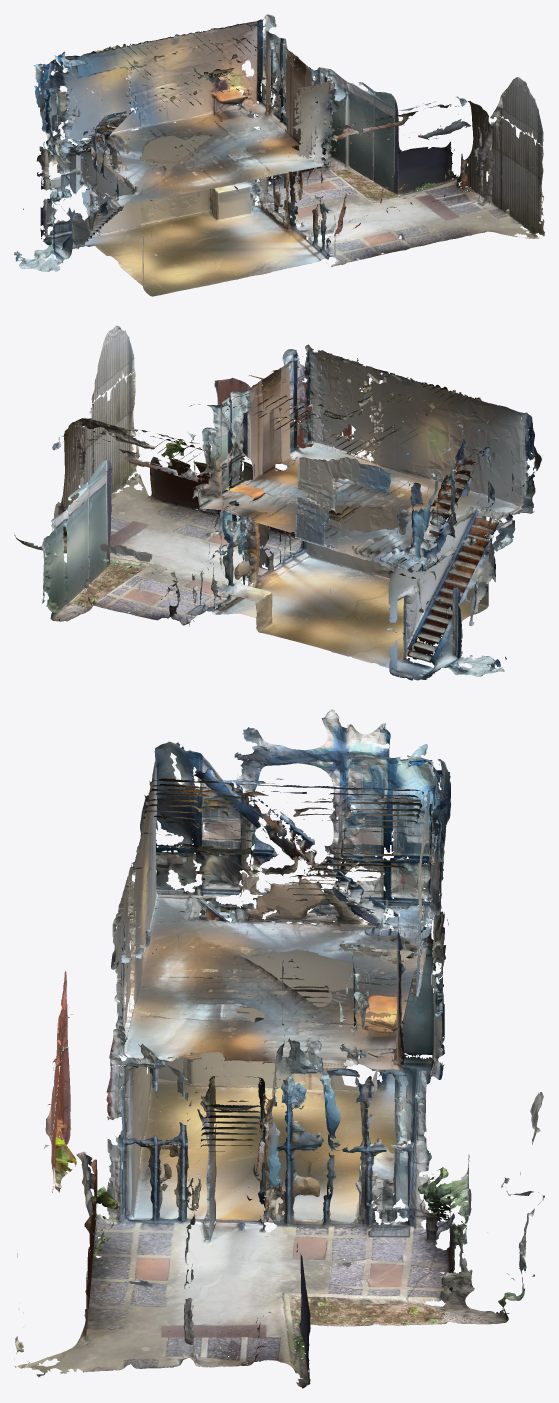
Rendered from scan.glb.
3 renders of one model, top to bottom at view 1: azimuth 30°, elevation 25°; view 2: azimuth 150°, elevation 25°; view 3: azimuth 270°, elevation 25°, orthographic. The views are drawn at different scales.
Parts seen in each view (by area): view 1: GLTF_1, GLTF_7, GLTF, GLTF_2, GLTF_6, GLTF_4, GLTF_3, GLTF_5; view 2: GLTF_7, GLTF, GLTF_1, GLTF_2, GLTF_6, GLTF_3, GLTF_5, GLTF_4; view 3: GLTF_7, GLTF_1, GLTF_3, GLTF, GLTF_2, GLTF_6, GLTF_5, GLTF_4.
Boxes of the visible parts, x1,y1,x2,y2 form: GLTF_1: (40,76,544,281); GLTF_7: (33,19,373,211); GLTF: (19,74,543,296); GLTF_2: (34,67,498,296); GLTF_6: (47,14,454,200); GLTF_4: (58,26,543,202); GLTF_3: (14,111,494,265); GLTF_5: (34,31,533,197); GLTF_7: (190,344,541,572); GLTF: (41,372,504,673); GLTF_1: (14,392,512,680); GLTF_2: (43,401,512,675); GLTF_6: (187,352,534,558); GLTF_3: (50,418,515,680); GLTF_5: (91,325,530,574); GLTF_4: (112,330,535,558); GLTF_7: (57,727,451,1093); GLTF_1: (15,907,543,1388); GLTF_3: (55,899,540,1362); GLTF: (17,923,544,1326); GLTF_2: (51,904,520,1368); GLTF_6: (45,709,440,1143); GLTF_5: (56,749,446,1140); GLTF_4: (44,741,436,1148).
Size of the model in its own units: 16.48 by 7.42 by 9.99.
4 materials, 4 textured.
